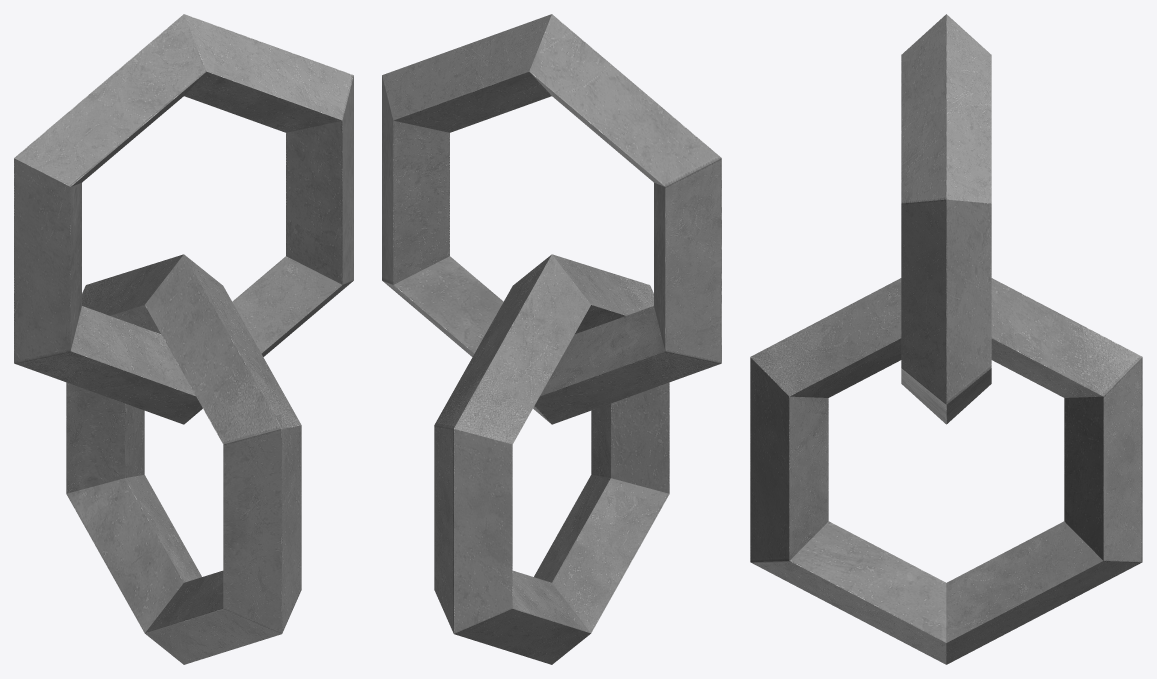
File: SM_Сhain_01.fbx
3 renders of one model, left to right at view 1: azimuth 30°, elevation 25°; view 2: azimuth 150°, elevation 25°; view 3: azimuth 270°, elevation 25°, orthographic.
Visible parts, largest first — view 1: SM_Chain_Array_01; view 2: SM_Chain_Array_01; view 3: SM_Chain_Array_01.
Part boxes in pixels (x1,y1,x2,y2): SM_Chain_Array_01: (14, 14, 353, 664); SM_Chain_Array_01: (382, 14, 721, 664); SM_Chain_Array_01: (750, 14, 1142, 664).
Size of the model in its own units: 48.76 by 89.23 by 48.76.
